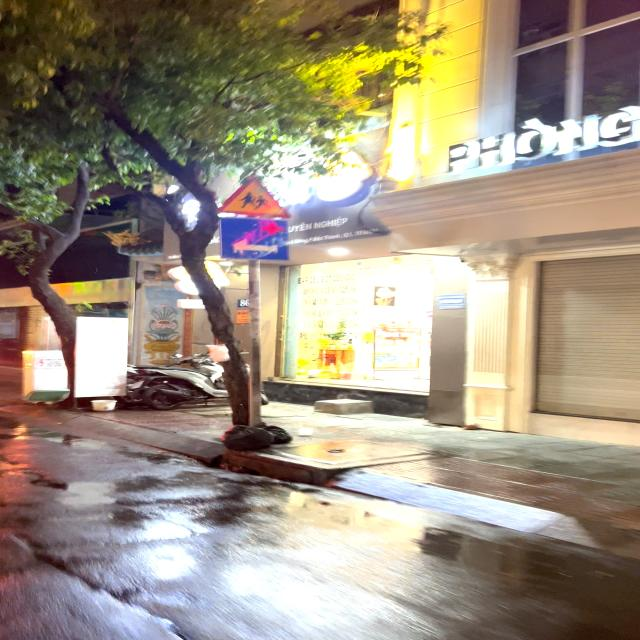bien_chi_dan: (218, 217, 290, 260)
bien_nguy_hiem: (219, 176, 292, 218)
